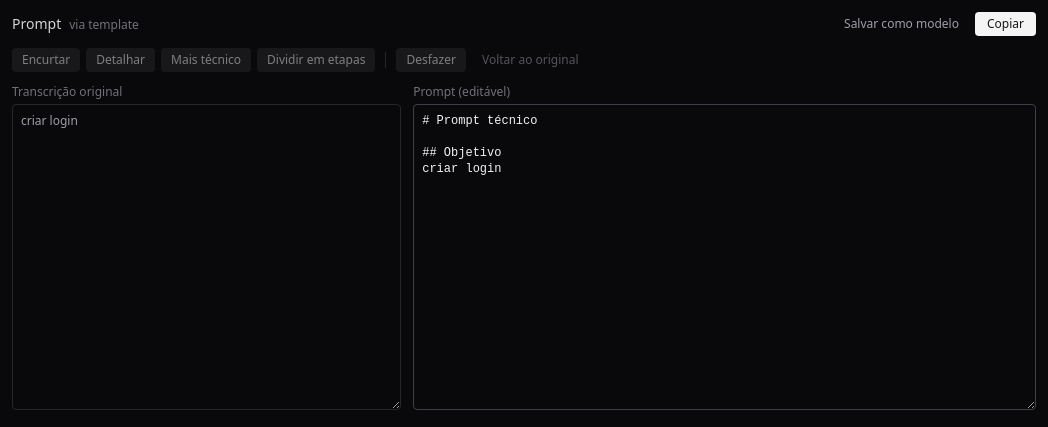
Test: PromptEditor › keeps the local actions working without the claude CLI
Type " extra" into the text box labelled "Prompt (editável)" at (725, 257), box [413, 104, 1036, 410]
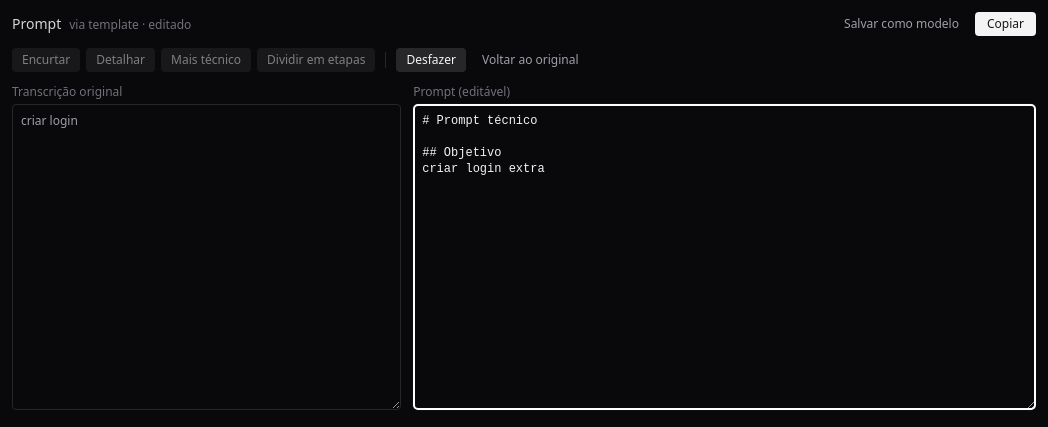
expect the button "Copiar" is enabled: met, box [975, 12, 1036, 36]
expect the button "Voltar ao original" is enabled: met, box [472, 48, 589, 72]
